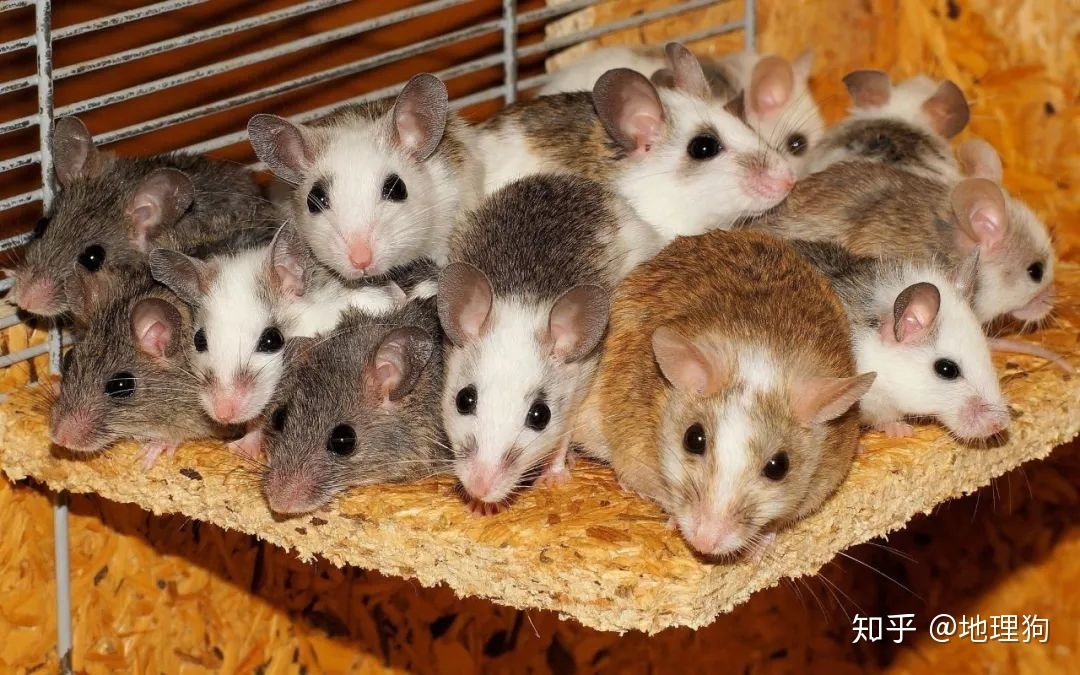mouse: (612, 248, 857, 562), (212, 85, 465, 283), (443, 192, 599, 497), (266, 328, 447, 529), (502, 97, 784, 214), (840, 173, 1067, 311), (856, 252, 1010, 447), (28, 308, 176, 464), (163, 242, 271, 426), (24, 138, 112, 329)
